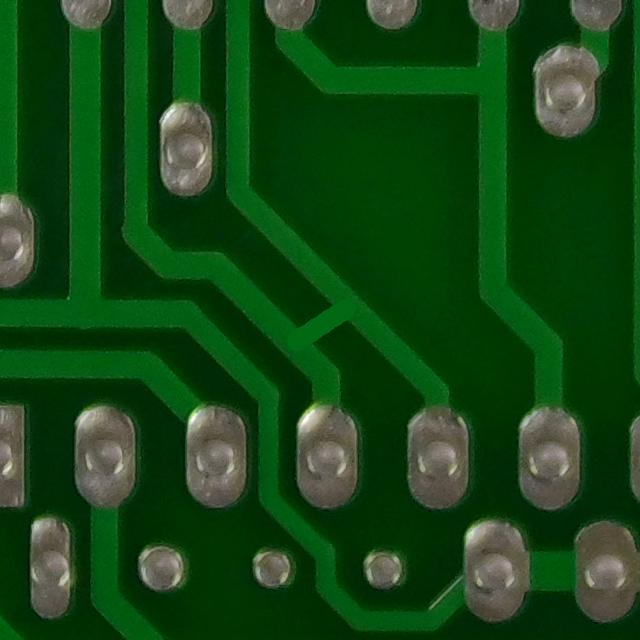short: (256, 280, 385, 360)
